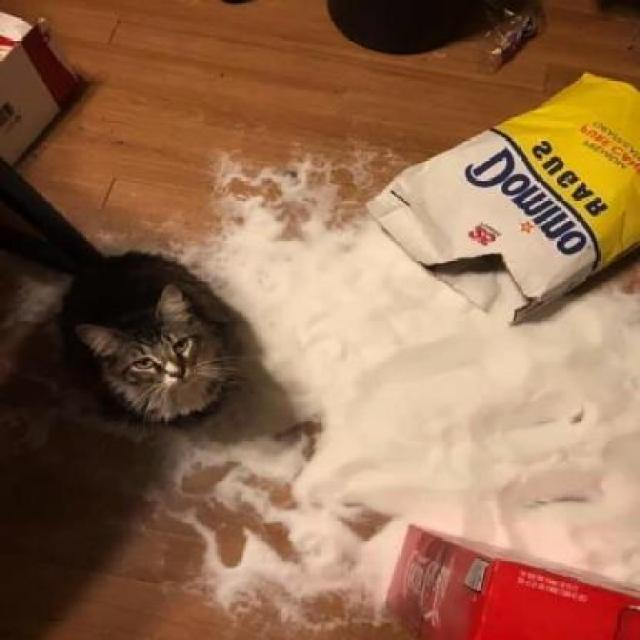cat: (0, 198, 254, 445)
